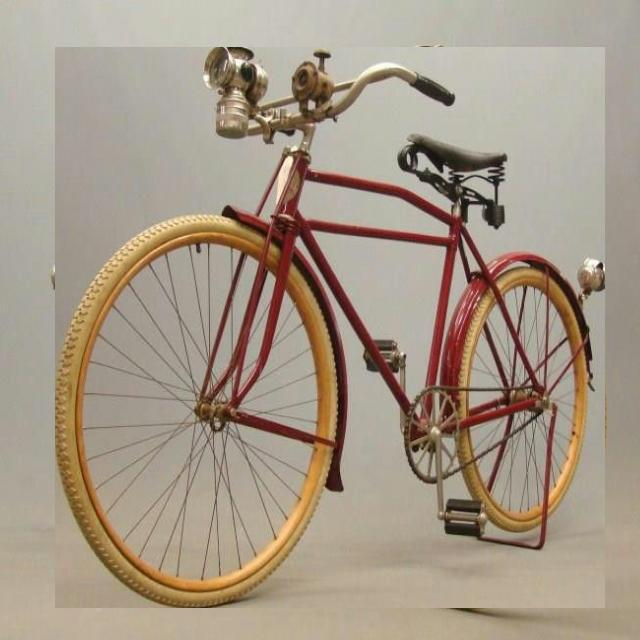bicycle: (55, 47, 605, 608)
